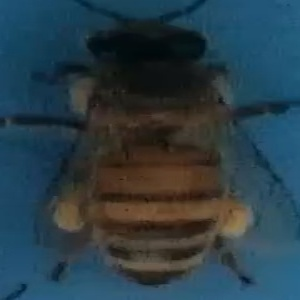bee: (17, 6, 297, 297)
